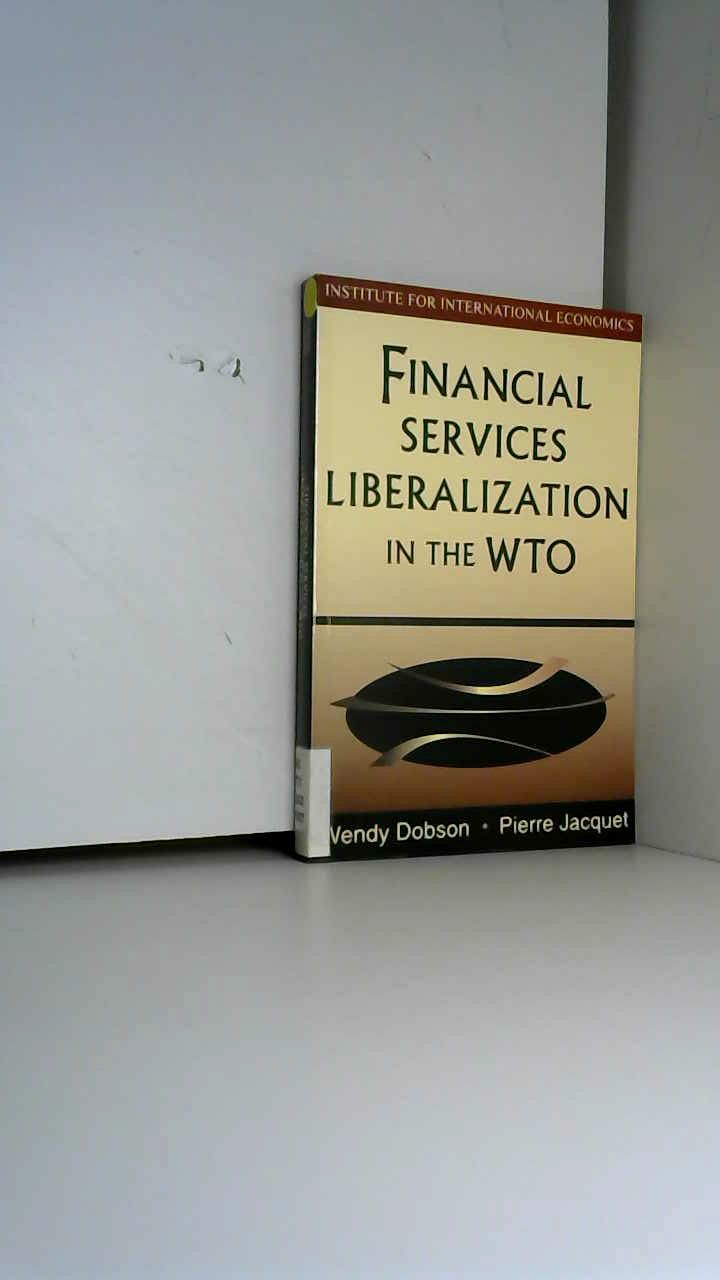book: (270, 250, 720, 892)
